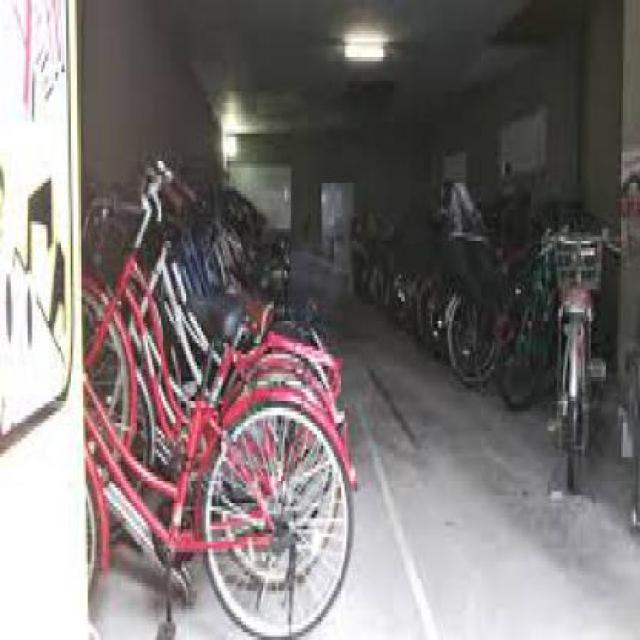bicycle: (544, 193, 606, 498)
